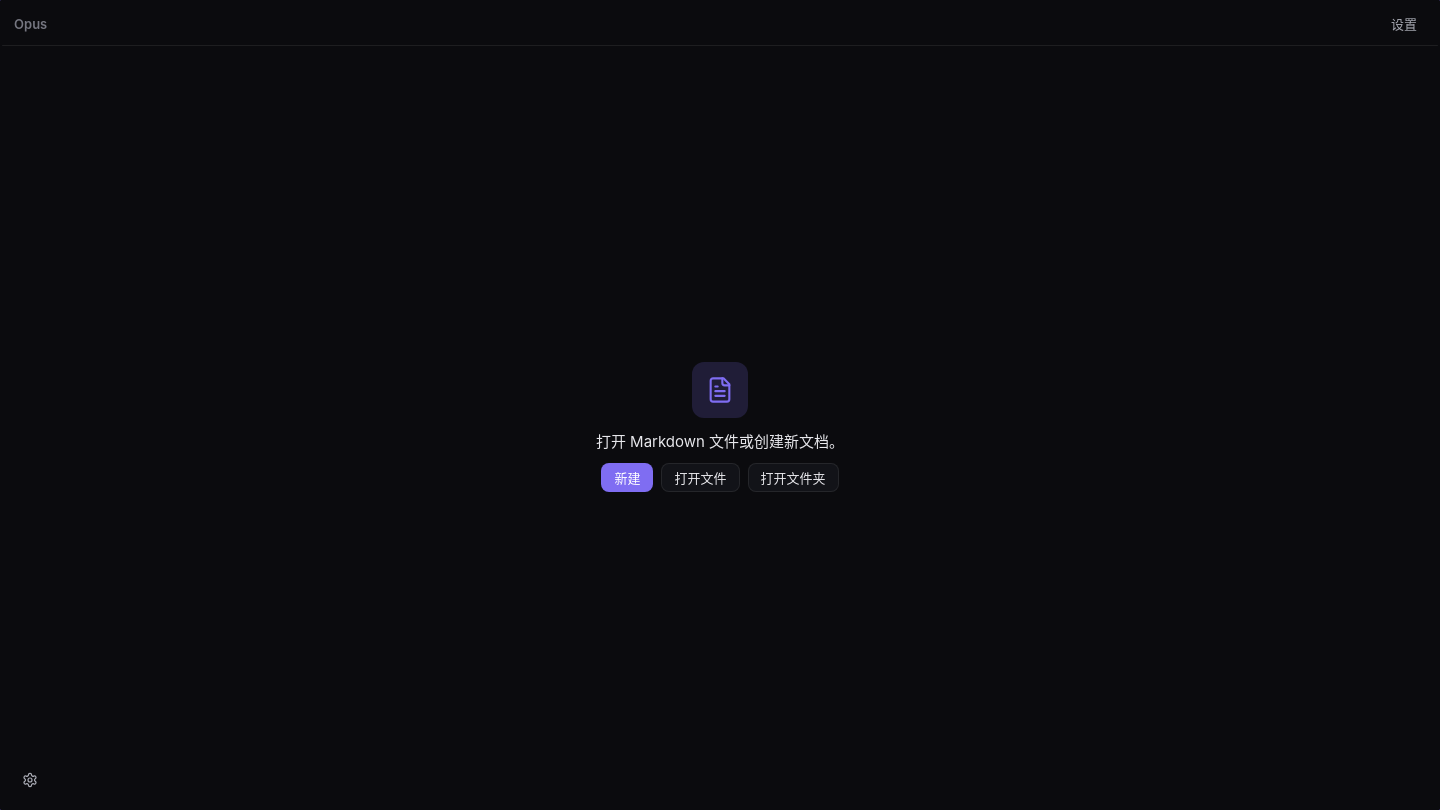
Test case: accessibility: roles and names › exposes the workspace tree with a name and levelled items
Step 1. Click the button "打开文件夹" → (793, 478), box [748,463,838,492]
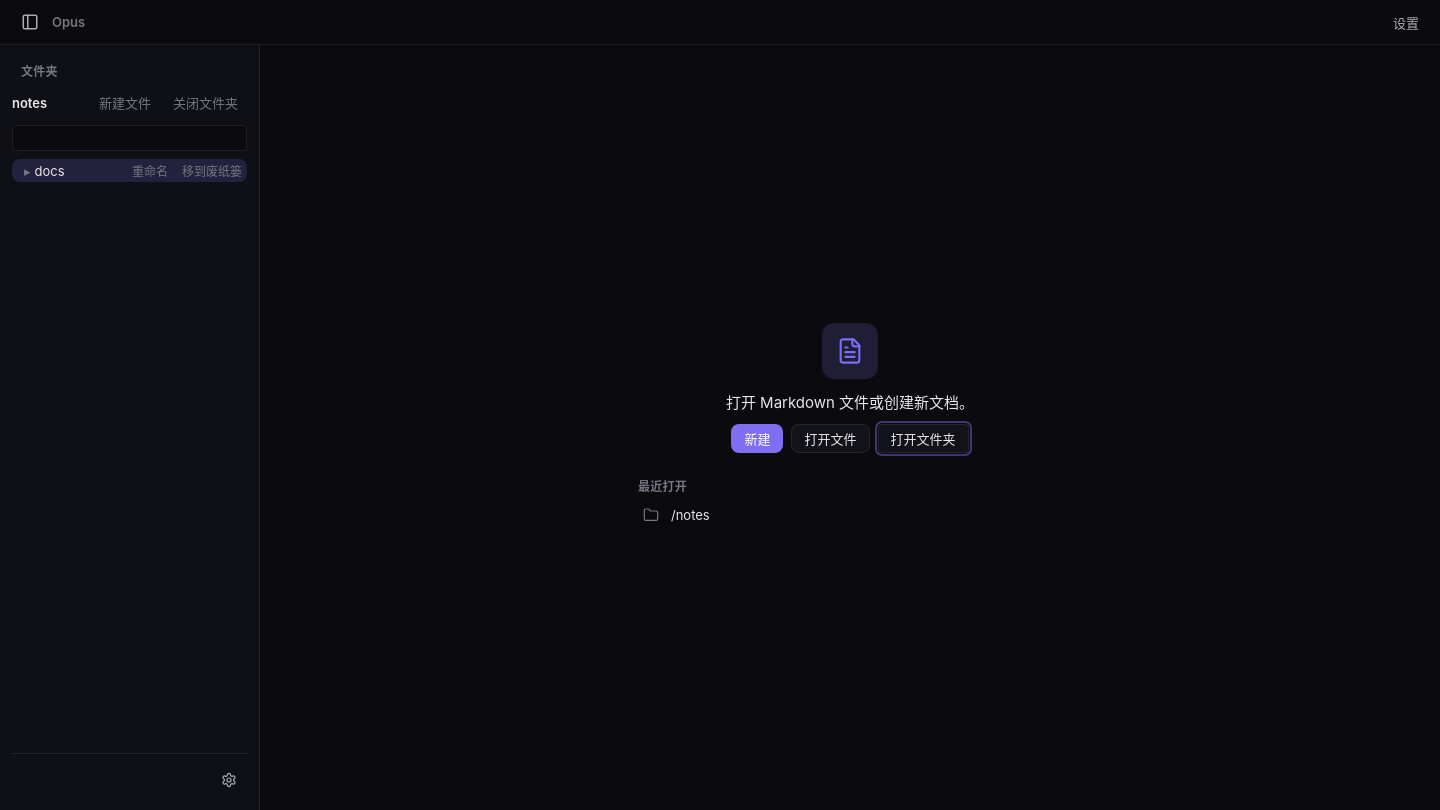
Result: the element named "侧栏" is shown at [0,45,260,809]
Result: the list item "▸ docs 重命名 移到废纸篓" is shown at [12,159,247,182]
